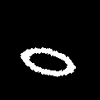chain: (21, 47, 75, 75)
